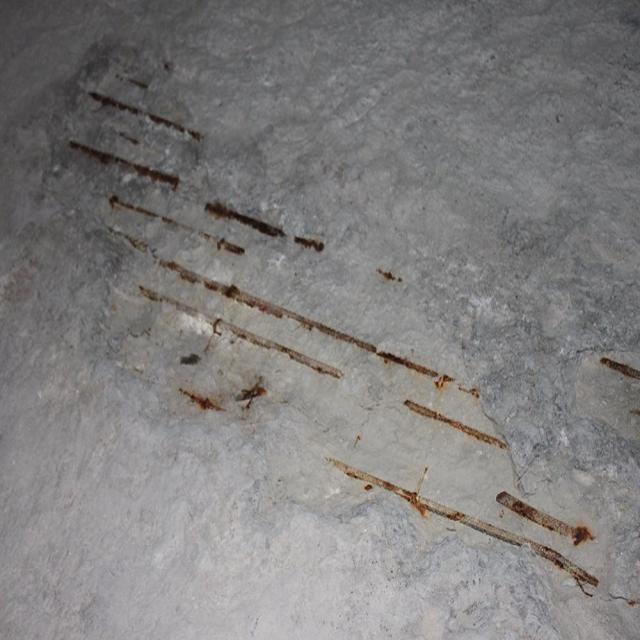stain_mould: (166, 262, 452, 381), (336, 459, 599, 586), (142, 286, 343, 377), (73, 141, 177, 189), (496, 490, 589, 541), (410, 402, 505, 448)
